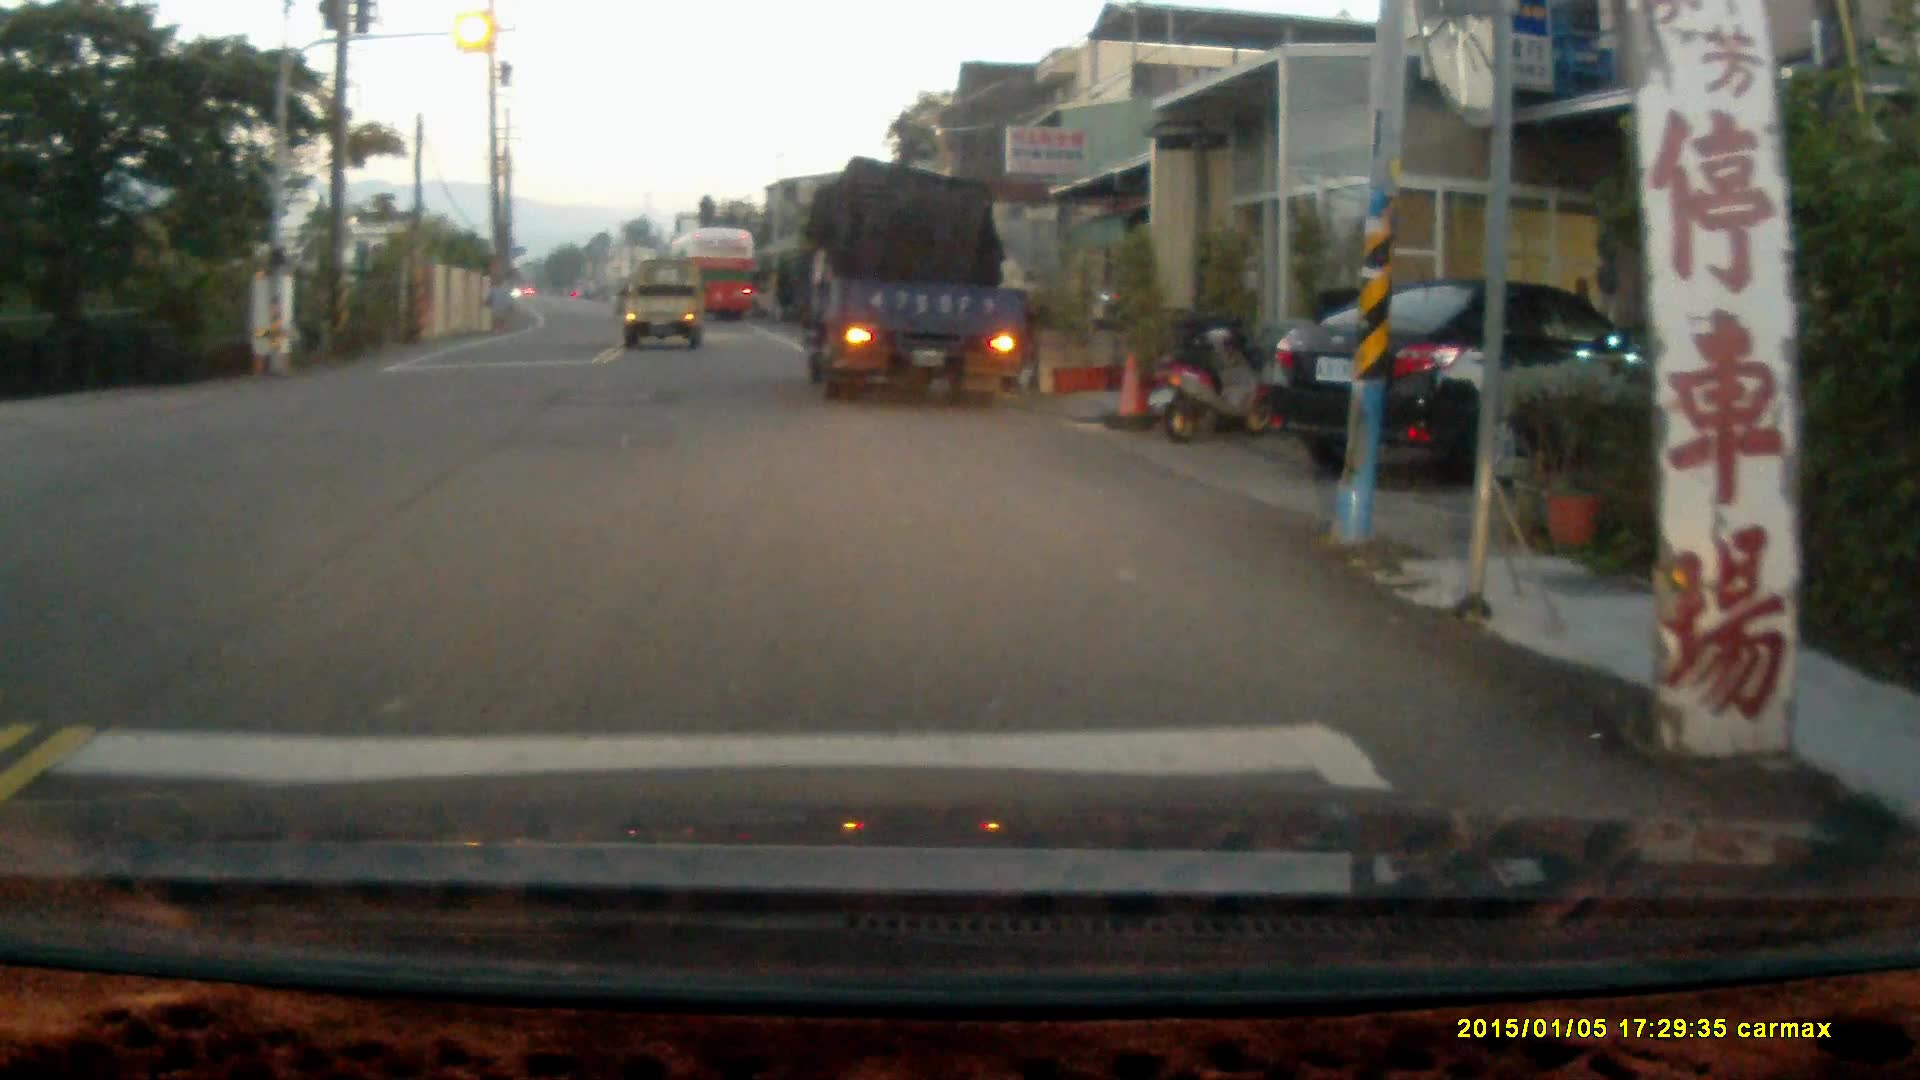vehicle: (1259, 282, 1696, 483), (793, 167, 1033, 404), (669, 231, 764, 332), (622, 264, 705, 349)
